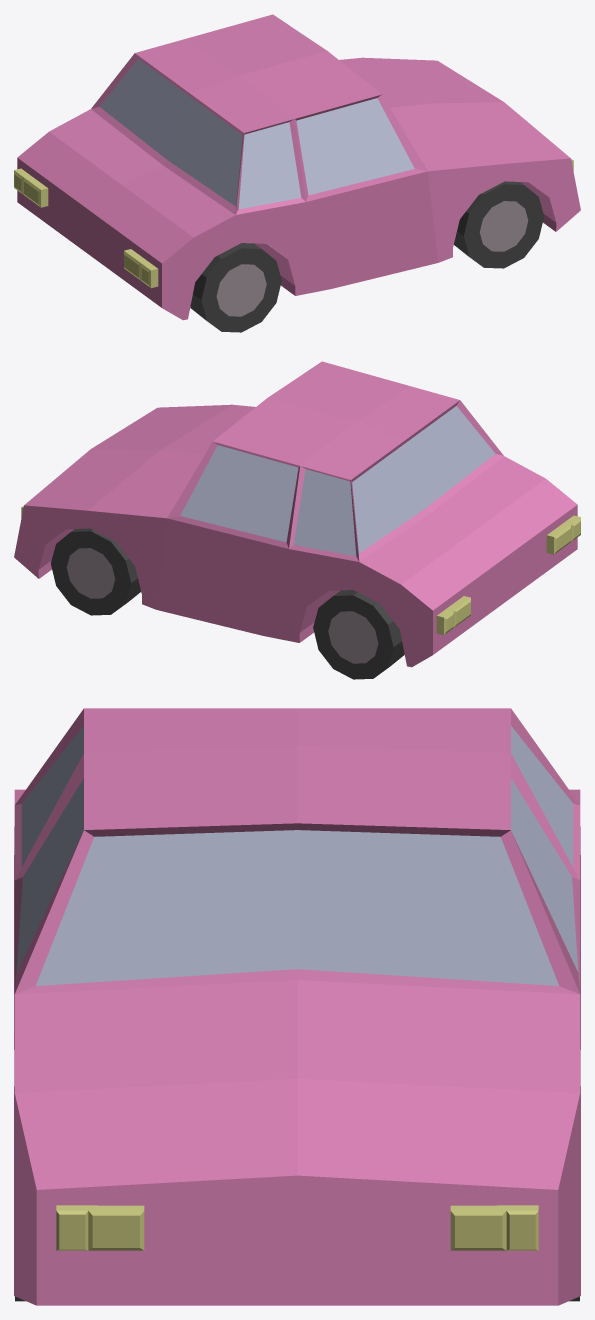
The model's file is car_pink.fbx.
3 views of the same model, one above another, from view 1: azimuth 30°, elevation 25°; view 2: azimuth 150°, elevation 25°; view 3: azimuth 270°, elevation 25° (orthographic). The views are drawn at different scales.
Parts seen in each view (by area): view 1: Cube; view 2: Cube; view 3: Cube.
Part boxes in pixels (x1,y1,x2,y2): Cube: [14, 14, 580, 332]; Cube: [14, 361, 580, 679]; Cube: [14, 708, 580, 1305].
Size of the model in its own units: 572 by 240 by 332.
